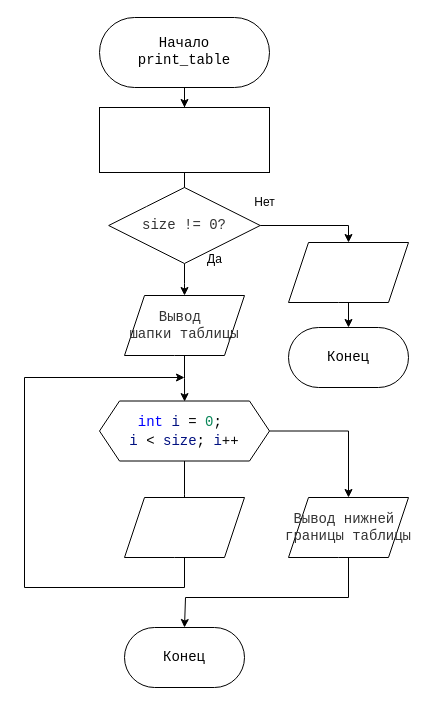
The diagram is 429 pixels wide and 705 high, and some of its shapes have lost their labels. Each missing label, with the box of its shape:
Вывод no landings: (288, 242, 408, 302)
Вывод строки с данными: (124, 496, 244, 558)
Инициализация переменных: (98, 106, 270, 172)
